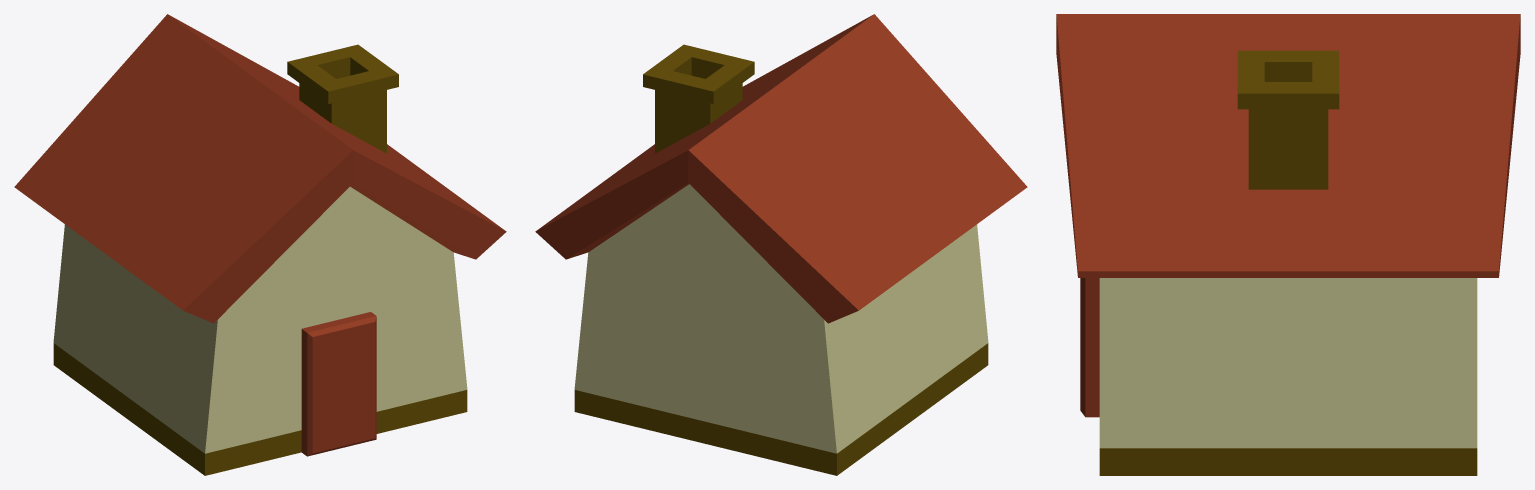
The model's file is house.fbx.
The picture shows the model from 3 angles, left to right: view 1: azimuth 30°, elevation 25°; view 2: azimuth 150°, elevation 25°; view 3: azimuth 270°, elevation 25°; orthographic projection. The views are drawn at different scales.
Visible parts, largest first — view 1: house; view 2: house; view 3: house.
Part boxes in pixels (<box>): house: <box>14,14,506,475</box>; house: <box>535,14,1027,475</box>; house: <box>1056,14,1520,475</box>.
Size of the model in its own units: 10.31 by 9.33 by 10.26.
